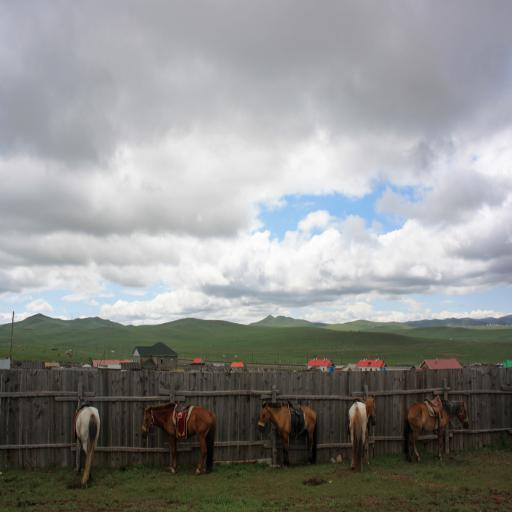horse: (140, 398, 218, 474), (400, 398, 471, 464), (256, 400, 319, 464), (346, 396, 380, 474), (76, 404, 102, 486)
